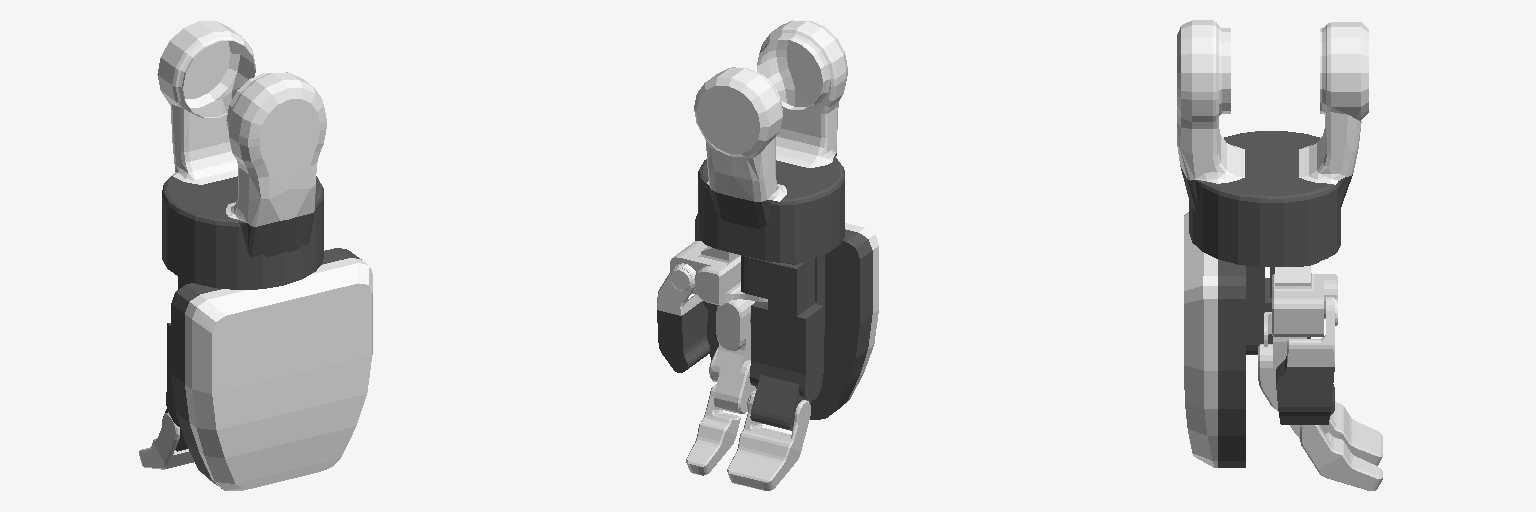
The robot description file, URDF, robot "HRP3HAND_R":
<?xml version="1.0"?>
<robot name="HRP3HAND_R"
       xmlns:xi="http://www.w3.org/2001/XInclude"
       >
  <link name="RARM_LINK6">
    <visual>
      <origin xyz="0 0 0" rpy="0 -0 0"/>
      <geometry>
        <mesh filename="package://hrpsys_ros_bridge_tutorials/models/HRP3HAND_R_meshes/RARM_LINK6_mesh.dae" scale="1 1 1" />
      </geometry>
    </visual>
    <collision>
      <origin xyz="0 0 0" rpy="0 -0 0"/>
      <geometry>
        <mesh filename="package://hrpsys_ros_bridge_tutorials/models/HRP3HAND_R_meshes/RARM_LINK6_mesh.dae" scale="1 1 1" />
      </geometry>
    </collision>
    <inertial>
      <mass value="1.33256" />
      <origin xyz="0.00067085 -0.00738842 -0.085722" rpy="0 -0 0"/>
      <inertia ixx="0.00227076" ixy="-6.3e-07" ixz="3.217e-05" iyy="0.00214173" iyz="3.72e-06" izz="0.00067255"/>
    </inertial>
  </link>
  <gazebo reference="RARM_LINK6">
    <mu1>0.9</mu1>
    <mu2>0.9</mu2>
  </gazebo>
  <link name="R_INDEXMP_R_LINK">
    <visual>
      <origin xyz="0 0.0102 -0.1547" rpy="0 -0 0"/>
      <geometry>
        <mesh filename="package://hrpsys_ros_bridge_tutorials/models/HRP3HAND_R_meshes/R_INDEXMP_R_LINK_mesh.dae" scale="1 1 1" />
      </geometry>
    </visual>
    <collision>
      <origin xyz="0 0.0102 -0.1547" rpy="0 -0 0"/>
      <geometry>
        <mesh filename="package://hrpsys_ros_bridge_tutorials/models/HRP3HAND_R_meshes/R_INDEXMP_R_LINK_mesh.dae" scale="1 1 1" />
      </geometry>
    </collision>
    <inertial>
      <mass value="0.0158629" />
      <origin xyz="0.00509194 -0.00581104 6.273e-05" rpy="0 -0 0"/>
      <inertia ixx="9.9e-07" ixy="7.6e-07" ixz="-7.94093e-23" iyy="1.61e-06" iyz="1e-08" izz="2.16e-06"/>
    </inertial>
  </link>
  <gazebo reference="R_INDEXMP_R_LINK">
    <mu1>0.9</mu1>
    <mu2>0.9</mu2>
  </gazebo>
  <link name="R_INDEXMP_P_LINK">
    <visual>
      <origin xyz="0.02 0 0" rpy="0 -0 0"/>
      <geometry>
        <mesh filename="package://hrpsys_ros_bridge_tutorials/models/HRP3HAND_R_meshes/R_INDEXMP_P_LINK_mesh.dae" scale="1 1 1" />
      </geometry>
    </visual>
    <collision>
      <origin xyz="0.02 0 0" rpy="0 -0 0"/>
      <geometry>
        <mesh filename="package://hrpsys_ros_bridge_tutorials/models/HRP3HAND_R_meshes/R_INDEXMP_P_LINK_mesh.dae" scale="1 1 1" />
      </geometry>
    </collision>
    <inertial>
      <mass value="0.106231" />
      <origin xyz="-0.00078463 0.00129762 -0.0281757" rpy="0 -0 0"/>
      <inertia ixx="5.089e-05" ixy="6.2e-07" ixz="-1.87e-06" iyy="4.739e-05" iyz="1.05e-05" izz="1.005e-05"/>
    </inertial>
  </link>
  <gazebo reference="R_INDEXMP_P_LINK">
    <mu1>0.9</mu1>
    <mu2>0.9</mu2>
  </gazebo>
  <link name="R_INDEXPIP_R_LINK">
    <visual>
      <origin xyz="0 0.01125 -0.055" rpy="0 -0 0"/>
      <geometry>
        <mesh filename="package://hrpsys_ros_bridge_tutorials/models/HRP3HAND_R_meshes/R_INDEXPIP_R_LINK_mesh.dae" scale="1 1 1" />
      </geometry>
    </visual>
    <collision>
      <origin xyz="0 0.01125 -0.055" rpy="0 -0 0"/>
      <geometry>
        <mesh filename="package://hrpsys_ros_bridge_tutorials/models/HRP3HAND_R_meshes/R_INDEXPIP_R_LINK_mesh.dae" scale="1 1 1" />
      </geometry>
    </collision>
    <inertial>
      <mass value="0.0215832" />
      <origin xyz="0.0210676 0.0134797 -0.0204042" rpy="0 -0 0"/>
      <inertia ixx="4.06e-06" ixy="2.2e-07" ixz="-2.9e-07" iyy="2.34e-06" iyz="1.55e-06" izz="3.05e-06"/>
    </inertial>
  </link>
  <gazebo reference="R_INDEXPIP_R_LINK">
    <mu1>0.9</mu1>
    <mu2>0.9</mu2>
  </gazebo>
  <link name="R_MIDDLEPIP_R_LINK">
    <visual>
      <origin xyz="0 0.02145 -0.2097" rpy="0 -0 0"/>
      <geometry>
        <mesh filename="package://hrpsys_ros_bridge_tutorials/models/HRP3HAND_R_meshes/R_MIDDLEPIP_R_LINK_mesh.dae" scale="1 1 1" />
      </geometry>
    </visual>
    <collision>
      <origin xyz="0 0.02145 -0.2097" rpy="0 -0 0"/>
      <geometry>
        <mesh filename="package://hrpsys_ros_bridge_tutorials/models/HRP3HAND_R_meshes/R_MIDDLEPIP_R_LINK_mesh.dae" scale="1 1 1" />
      </geometry>
    </collision>
    <inertial>
      <mass value="0.0367086" />
      <origin xyz="-0.0171953 0.0140037 -0.0195553" rpy="0 -0 0"/>
      <inertia ixx="9.9e-06" ixy="6.2e-07" ixz="-8.7e-07" iyy="1.003e-05" iyz="3.95e-06" izz="1.043e-05"/>
    </inertial>
  </link>
  <gazebo reference="R_MIDDLEPIP_R_LINK">
    <mu1>0.9</mu1>
    <mu2>0.9</mu2>
  </gazebo>
  <link name="R_THUMBCM_Y_LINK">
    <visual>
      <origin xyz="0 0.0102 -0.1292" rpy="0 -0 0"/>
      <geometry>
        <mesh filename="package://hrpsys_ros_bridge_tutorials/models/HRP3HAND_R_meshes/R_THUMBCM_Y_LINK_mesh.dae" scale="1 1 1" />
      </geometry>
    </visual>
    <collision>
      <origin xyz="0 0.0102 -0.1292" rpy="0 -0 0"/>
      <geometry>
        <mesh filename="package://hrpsys_ros_bridge_tutorials/models/HRP3HAND_R_meshes/R_THUMBCM_Y_LINK_mesh.dae" scale="1 1 1" />
      </geometry>
    </collision>
    <inertial>
      <mass value="0.10048" />
      <origin xyz="0.0314882 0.00644999 0.00140644" rpy="0 -0 0"/>
      <inertia ixx="1.432e-05" ixy="-4.7e-07" ixz="5.4e-07" iyy="2.66e-05" iyz="7.1e-07" izz="2.697e-05"/>
    </inertial>
  </link>
  <gazebo reference="R_THUMBCM_Y_LINK">
    <mu1>0.9</mu1>
    <mu2>0.9</mu2>
  </gazebo>
  <link name="R_THUMBCM_P_LINK">
    <visual>
      <origin xyz="0.045 0 0" rpy="0 -0 0"/>
      <geometry>
        <mesh filename="package://hrpsys_ros_bridge_tutorials/models/HRP3HAND_R_meshes/R_THUMBCM_P_LINK_mesh.dae" scale="1 1 1" />
      </geometry>
    </visual>
    <collision>
      <origin xyz="0.045 0 0" rpy="0 -0 0"/>
      <geometry>
        <mesh filename="package://hrpsys_ros_bridge_tutorials/models/HRP3HAND_R_meshes/R_THUMBCM_P_LINK_mesh.dae" scale="1 1 1" />
      </geometry>
    </collision>
    <inertial>
      <mass value="0.0483845" />
      <origin xyz="0.00682086 0.013234 -0.0305205" rpy="0 -0 0"/>
      <inertia ixx="2.302e-05" ixy="3.2e-07" ixz="-9.9e-07" iyy="2.227e-05" iyz="-1.88e-06" izz="4.84e-06"/>
    </inertial>
  </link>
  <gazebo reference="R_THUMBCM_P_LINK">
    <mu1>0.9</mu1>
    <mu2>0.9</mu2>
  </gazebo>
  <joint name="R_INDEXMP_R" type="revolute">
    <parent link="RARM_LINK6"/>
    <child  link="R_INDEXMP_R_LINK"/>
    <origin xyz="0 0.0102 -0.1547" rpy="0 -0 0 "/>
    <axis   xyz="1 0 0"/>
    <limit lower="-0.261799" upper="1.6057" effort="100" velocity="0.5" />
    <dynamics damping="0.2" friction="0" />
  </joint>
  <transmission type="pr2_mechanism_model/SimpleTransmission" name="R_INDEXMP_R_trans" >
    <actuator name="R_INDEXMP_R_motor" />
    <joint name="R_INDEXMP_R" />
    <mechanicalReduction>1</mechanicalReduction>
  </transmission>
  <gazebo reference="R_INDEXMP_R">
    <cfmDamping>0.4</cfmDamping>
  </gazebo>
  <joint name="R_INDEXMP_P" type="revolute">
    <parent link="R_INDEXMP_R_LINK"/>
    <child  link="R_INDEXMP_P_LINK"/>
    <origin xyz="0.02 0 0" rpy="0 -0 0 "/>
    <axis   xyz="0 -1 0"/>
    <limit lower="-0" upper="1.5708" effort="100" velocity="0.5" />
    <dynamics damping="0.2" friction="0" />
  </joint>
  <transmission type="pr2_mechanism_model/SimpleTransmission" name="R_INDEXMP_P_trans" >
    <actuator name="R_INDEXMP_P_motor" />
    <joint name="R_INDEXMP_P" />
    <mechanicalReduction>1</mechanicalReduction>
  </transmission>
  <gazebo reference="R_INDEXMP_P">
    <cfmDamping>0.4</cfmDamping>
  </gazebo>
  <joint name="R_INDEXPIP_R" type="revolute">
    <parent link="R_INDEXMP_P_LINK"/>
    <child  link="R_INDEXPIP_R_LINK"/>
    <origin xyz="0 0.01125 -0.055" rpy="0 -0 0 "/>
    <axis   xyz="1 0 0"/>
    <limit lower="-0.698132" upper="2.00713" effort="100" velocity="0.5" />
    <dynamics damping="0.2" friction="0" />
  </joint>
  <transmission type="pr2_mechanism_model/SimpleTransmission" name="R_INDEXPIP_R_trans" >
    <actuator name="R_INDEXPIP_R_motor" />
    <joint name="R_INDEXPIP_R" />
    <mechanicalReduction>1</mechanicalReduction>
  </transmission>
  <gazebo reference="R_INDEXPIP_R">
    <cfmDamping>0.4</cfmDamping>
  </gazebo>
  <joint name="R_MIDDLEPIP_R" type="revolute">
    <parent link="RARM_LINK6"/>
    <child  link="R_MIDDLEPIP_R_LINK"/>
    <origin xyz="0 0.02145 -0.2097" rpy="0 -0 0 "/>
    <axis   xyz="1 0 0"/>
    <limit lower="-0.698132" upper="2.00713" effort="100" velocity="0.5" />
    <dynamics damping="0.2" friction="0" />
  </joint>
  <transmission type="pr2_mechanism_model/SimpleTransmission" name="R_MIDDLEPIP_R_trans" >
    <actuator name="R_MIDDLEPIP_R_motor" />
    <joint name="R_MIDDLEPIP_R" />
    <mechanicalReduction>1</mechanicalReduction>
  </transmission>
  <gazebo reference="R_MIDDLEPIP_R">
    <cfmDamping>0.4</cfmDamping>
  </gazebo>
  <joint name="R_THUMBCM_Y" type="revolute">
    <parent link="RARM_LINK6"/>
    <child  link="R_THUMBCM_Y_LINK"/>
    <origin xyz="0 0.0102 -0.1292" rpy="0 -0 0 "/>
    <axis   xyz="0 0 1"/>
    <limit lower="-0.261799" upper="1.6057" effort="100" velocity="0.5" />
    <dynamics damping="0.2" friction="0" />
  </joint>
  <transmission type="pr2_mechanism_model/SimpleTransmission" name="R_THUMBCM_Y_trans" >
    <actuator name="R_THUMBCM_Y_motor" />
    <joint name="R_THUMBCM_Y" />
    <mechanicalReduction>1</mechanicalReduction>
  </transmission>
  <gazebo reference="R_THUMBCM_Y">
    <cfmDamping>0.4</cfmDamping>
  </gazebo>
  <joint name="R_THUMBCM_P" type="revolute">
    <parent link="R_THUMBCM_Y_LINK"/>
    <child  link="R_THUMBCM_P_LINK"/>
    <origin xyz="0.045 0 0" rpy="0 -0 0 "/>
    <axis   xyz="0 -1 0"/>
    <limit lower="-0.523599" upper="1.6057" effort="100" velocity="0.5" />
    <dynamics damping="0.2" friction="0" />
  </joint>
  <transmission type="pr2_mechanism_model/SimpleTransmission" name="R_THUMBCM_P_trans" >
    <actuator name="R_THUMBCM_P_motor" />
    <joint name="R_THUMBCM_P" />
    <mechanicalReduction>1</mechanicalReduction>
  </transmission>
  <gazebo reference="R_THUMBCM_P">
    <cfmDamping>0.4</cfmDamping>
  </gazebo>
</robot>

--- Facts derived from the render (not from the file) ---
3 views of the same robot in one strip: view 1: azimuth 30°, elevation 25°; view 2: azimuth 150°, elevation 25°; view 3: azimuth 270°, elevation 25° (orthographic).
Model HRP3HAND_R with 7 links and 6 joints (6 revolute), rooted at RARM_LINK6, posed all joints at 0.
Visible links, largest first — view 1: RARM_LINK6, R_MIDDLEPIP_R_LINK; view 2: RARM_LINK6, R_THUMBCM_P_LINK, R_MIDDLEPIP_R_LINK, R_INDEXMP_P_LINK, R_THUMBCM_Y_LINK, R_INDEXPIP_R_LINK; view 3: RARM_LINK6, R_THUMBCM_P_LINK, R_THUMBCM_Y_LINK, R_INDEXPIP_R_LINK, R_MIDDLEPIP_R_LINK, R_INDEXMP_P_LINK.
Boxes of the visible links, x1=… form: RARM_LINK6: x1=157, y1=20, x2=372, y2=490; R_MIDDLEPIP_R_LINK: x1=139, y1=412, x2=193, y2=469; RARM_LINK6: x1=694, y1=20, x2=878, y2=430; R_THUMBCM_P_LINK: x1=657, y1=263, x2=709, y2=372; R_MIDDLEPIP_R_LINK: x1=727, y1=389, x2=810, y2=490; R_INDEXMP_P_LINK: x1=709, y1=299, x2=755, y2=413; R_THUMBCM_Y_LINK: x1=670, y1=241, x2=767, y2=305; R_INDEXPIP_R_LINK: x1=686, y1=384, x2=740, y2=475; RARM_LINK6: x1=1177, y1=20, x2=1368, y2=467; R_THUMBCM_P_LINK: x1=1276, y1=297, x2=1337, y2=424; R_THUMBCM_Y_LINK: x1=1272, y1=266, x2=1337, y2=336; R_INDEXPIP_R_LINK: x1=1300, y1=425, x2=1382, y2=490; R_MIDDLEPIP_R_LINK: x1=1325, y1=401, x2=1382, y2=465; R_INDEXMP_P_LINK: x1=1258, y1=337, x2=1326, y2=438.
Bounding box of the posed robot: 0.12 × 0.116 × 0.2781 m (x, y, z).
7 mesh visuals loaded from 7 distinct referenced files (7 Collada DAE).